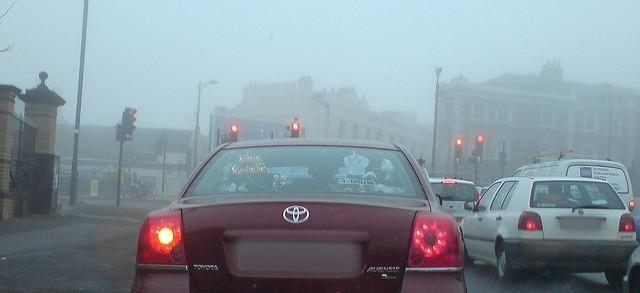car: (132, 137, 467, 289), (463, 175, 635, 286), (509, 159, 635, 216), (428, 178, 480, 222)
